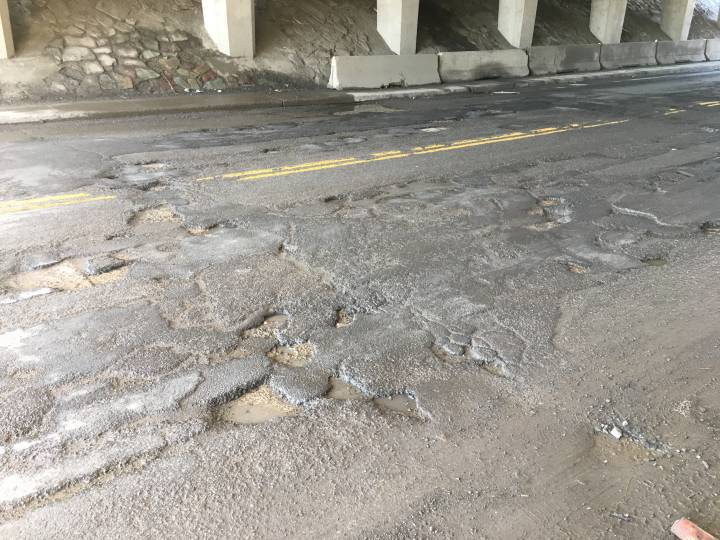pothole: (16, 233, 102, 322), (194, 372, 312, 426), (242, 302, 308, 340)
